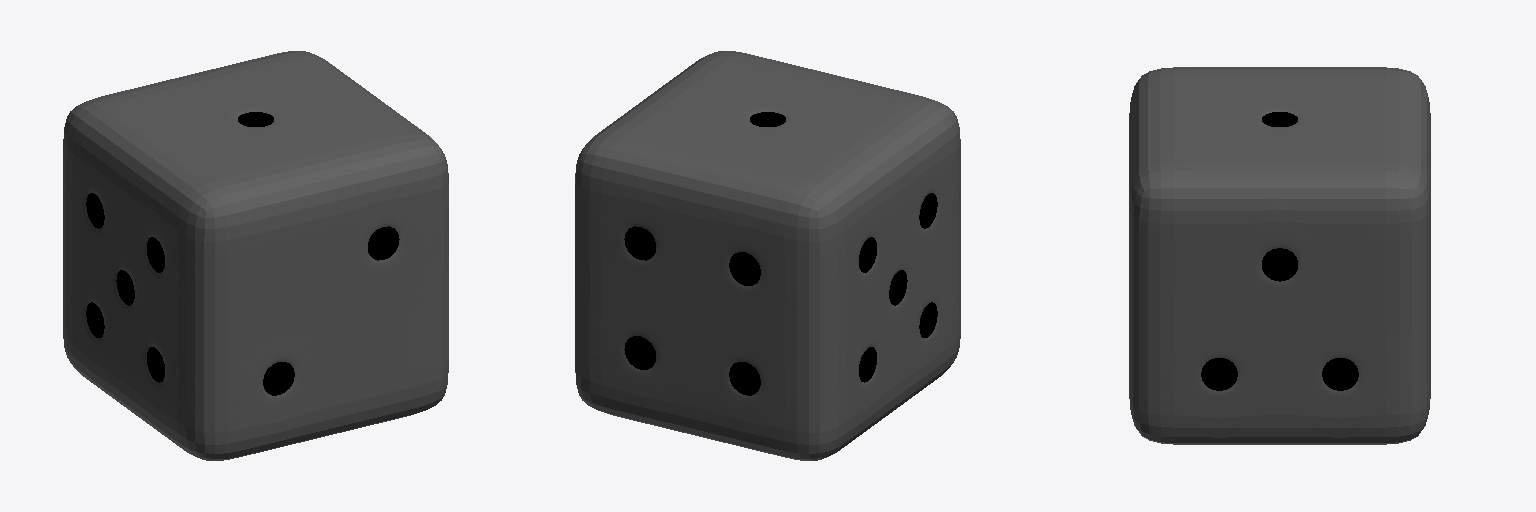
The model's file is Dice.obj.
3 renders of one model, left to right at view 1: azimuth 30°, elevation 25°; view 2: azimuth 150°, elevation 25°; view 3: azimuth 270°, elevation 25°, orthographic.
Parts seen in each view (by area): view 1: Dice; view 2: Dice; view 3: Dice.
Part boxes in pixels (bbox=[...]): Dice: bbox=[63, 51, 448, 460]; Dice: bbox=[575, 51, 960, 460]; Dice: bbox=[1129, 67, 1430, 444].
Bounding box in the file's own units: 4.78 × 4.78 × 4.78.